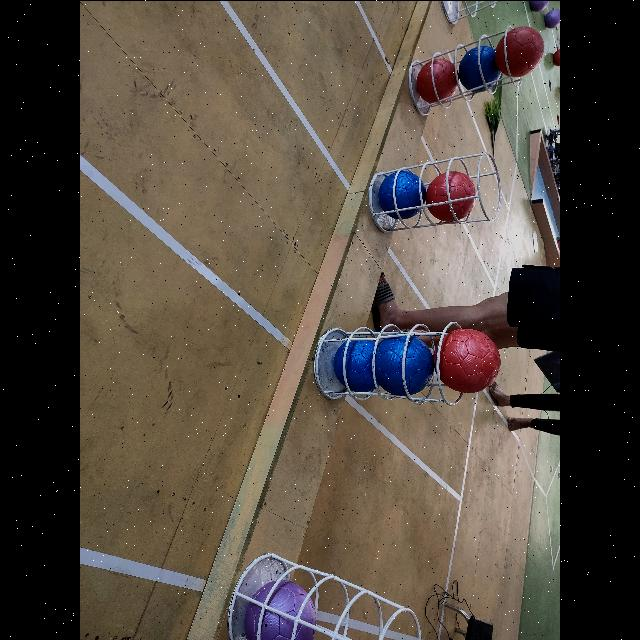B: (374, 334, 434, 396), (334, 336, 378, 392), (378, 169, 426, 219), (459, 41, 499, 93)
R: (432, 326, 500, 392), (426, 170, 476, 222), (495, 24, 545, 76), (416, 54, 460, 102)
